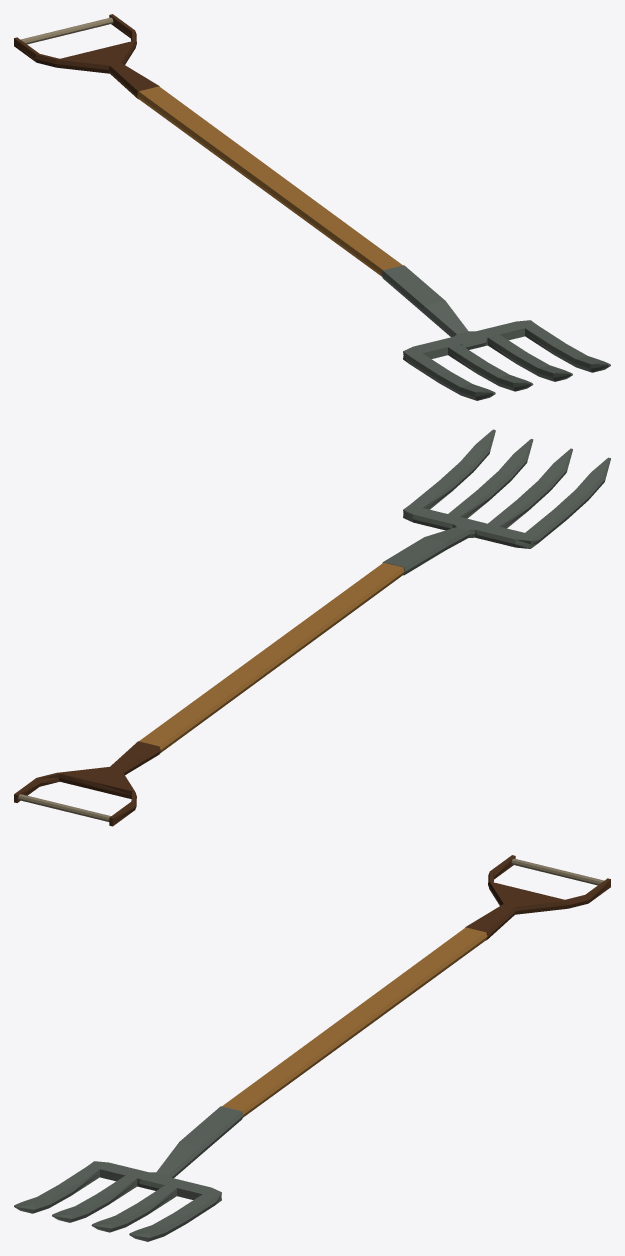
The model's file is f9f3459b-fc03-4b10-8b27-cadaebad9eb3.glb.
3 views of the same model, one above another, from view 1: azimuth 30°, elevation 25°; view 2: azimuth 150°, elevation 25°; view 3: azimuth 330°, elevation 25° (orthographic).
Visible parts, largest first — view 1: Node; view 2: Node; view 3: Node.
Part boxes in pixels (bbox=[...]): Node: bbox=[14, 14, 610, 400]; Node: bbox=[14, 429, 610, 826]; Node: bbox=[14, 855, 610, 1241].
Bounding box in the file's own units: 1.02 × 0.2053 × 6.63.
